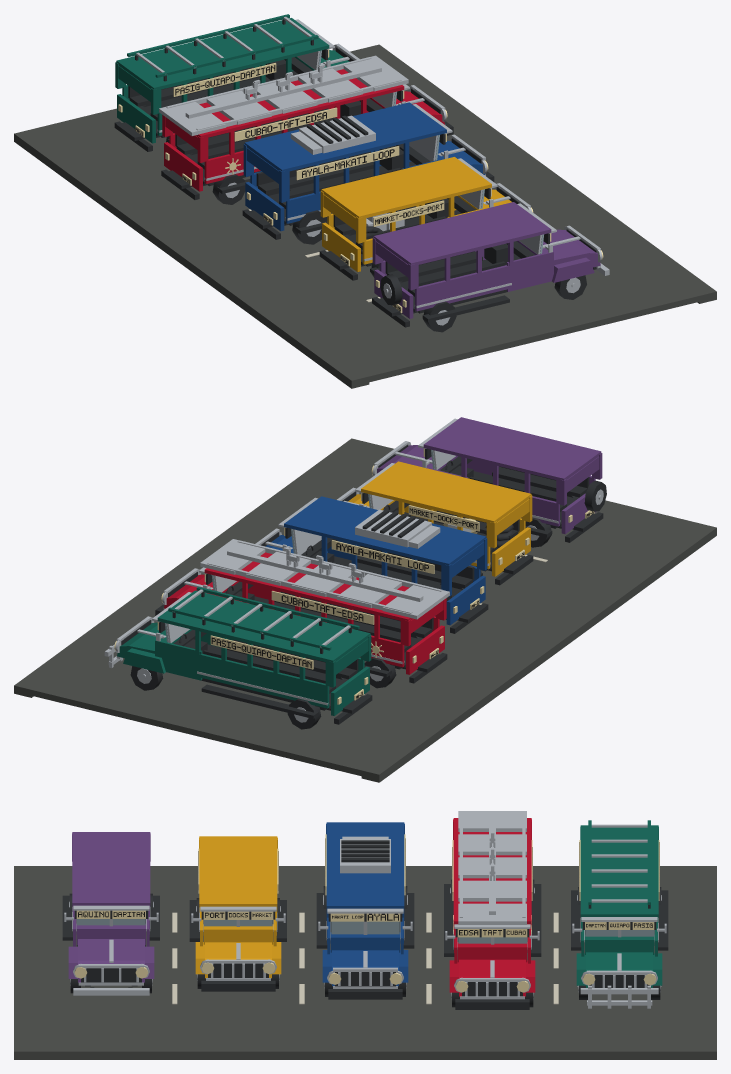
File: philippine-jeepneys.glb
3 renders of one model, top to bottom at view 1: azimuth 30°, elevation 25°; view 2: azimuth 150°, elevation 25°; view 3: azimuth 270°, elevation 25°, orthographic. The views are drawn at different scales.
Visible parts, largest first — view 1: road_surface, road_shoulder_rear, j1_roof, j5_roof, road_shoulder_front, j4_roof, j2_roof_panel (×5), j3_roof, j5_body_side, j2_roof, j1_rack_rail (×2), j2_roof_crest (+22 smaller); view 2: road_surface, road_shoulder_rear, j1_roof, j5_roof, road_shoulder_front, j4_roof, j2_roof_panel (×5), j3_roof, j1_body_side, j2_roof, j1_rack_rail (×2), j2_roof_crest (+24 smaller); view 3: road_surface, road_shoulder_front, j2_roof_panel (×5), j1_roof, j5_roof, j4_roof, j3_roof, road_shoulder_rear, j2_roof, j5_hood, j2_side_step (×2), j2_hood (+28 smaller).
Boxes of the visible parts, x1=… form: road_surface: x1=32, y1=48, x2=700, y2=382; road_shoulder_rear: x1=14, y1=129, x2=369, y2=388; j1_roof: x1=116, y1=18, x2=329, y2=90; j5_roof: x1=373, y1=202, x2=551, y2=265; road_shoulder_front: x1=363, y1=44, x2=716, y2=303; j4_roof: x1=321, y1=157, x2=491, y2=218; j2_roof_panel (×5): x1=159, y1=55, x2=408, y2=135; j3_roof: x1=244, y1=102, x2=446, y2=172; j5_body_side: x1=415, y1=265, x2=511, y2=311; j2_roof: x1=195, y1=69, x2=404, y2=138; j1_rack_rail (×2): x1=127, y1=14, x2=318, y2=77; j2_roof_crest: x1=185, y1=65, x2=381, y2=118; road_surface: x1=30, y1=442, x2=700, y2=776; road_shoulder_rear: x1=361, y1=523, x2=716, y2=782; j1_roof: x1=157, y1=590, x2=370, y2=662; j5_roof: x1=423, y1=417, x2=601, y2=480; road_shoulder_front: x1=14, y1=438, x2=368, y2=697; j4_roof: x1=361, y1=461, x2=531, y2=523; j2_roof_panel (×5): x1=200, y1=539, x2=449, y2=619; j3_roof: x1=284, y1=496, x2=486, y2=565; j1_body_side: x1=197, y1=653, x2=329, y2=708; j2_roof: x1=204, y1=552, x2=413, y2=621; j1_rack_rail (×2): x1=168, y1=586, x2=359, y2=650; j2_roof_crest: x1=227, y1=549, x2=423, y2=601; road_surface: x1=14, y1=874, x2=716, y2=1043; road_shoulder_front: x1=14, y1=1042, x2=716, y2=1059; j2_roof_panel (×5): x1=458, y1=811, x2=526, y2=924; j1_roof: x1=580, y1=825, x2=658, y2=917; j5_roof: x1=72, y1=832, x2=150, y2=906; j4_roof: x1=199, y1=836, x2=277, y2=907; j3_roof: x1=326, y1=822, x2=404, y2=908; road_shoulder_rear: x1=14, y1=866, x2=716, y2=874; j2_roof: x1=453, y1=818, x2=531, y2=924; j5_hood: x1=78, y1=939, x2=144, y2=982; j2_side_step (×2): x1=444, y1=884, x2=541, y2=956; j2_hood: x1=459, y1=959, x2=525, y2=996.
Size of the model in its own units: 10.37 by 2.89 by 16.6.
